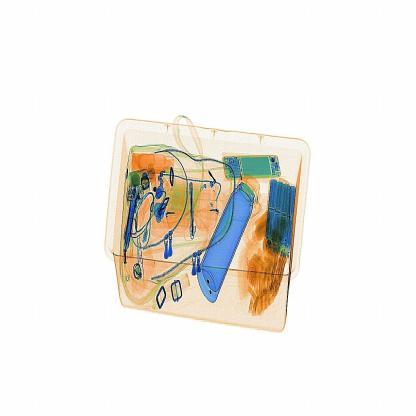knife: (186, 182, 196, 242)
